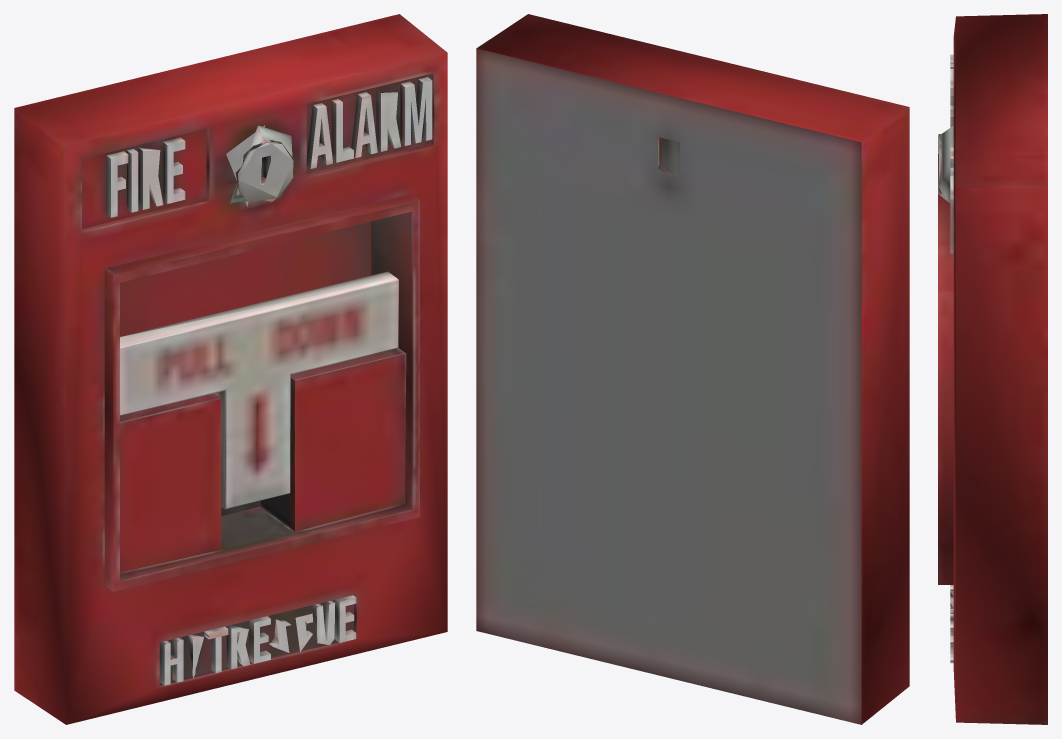
The model's file is fireAlarm_lo.glb.
The picture shows the model from 3 angles, left to right: view 1: azimuth 30°, elevation 25°; view 2: azimuth 150°, elevation 25°; view 3: azimuth 270°, elevation 25°; orthographic projection. The views are drawn at different scales.
Visible parts, largest first — view 1: fire_alarm, fire_alarm_lever; view 2: fire_alarm; view 3: fire_alarm.
Boxes of the visible parts, box(x1,y1,x2,y2) form: fire_alarm: box(14, 14, 447, 724); fire_alarm_lever: box(120, 271, 398, 509); fire_alarm: box(476, 14, 909, 724); fire_alarm: box(938, 14, 1047, 724).
Size of the model in its own units: 0.0984 by 0.1422 by 0.0264.
Materials: 1 (1 with a texture image).
